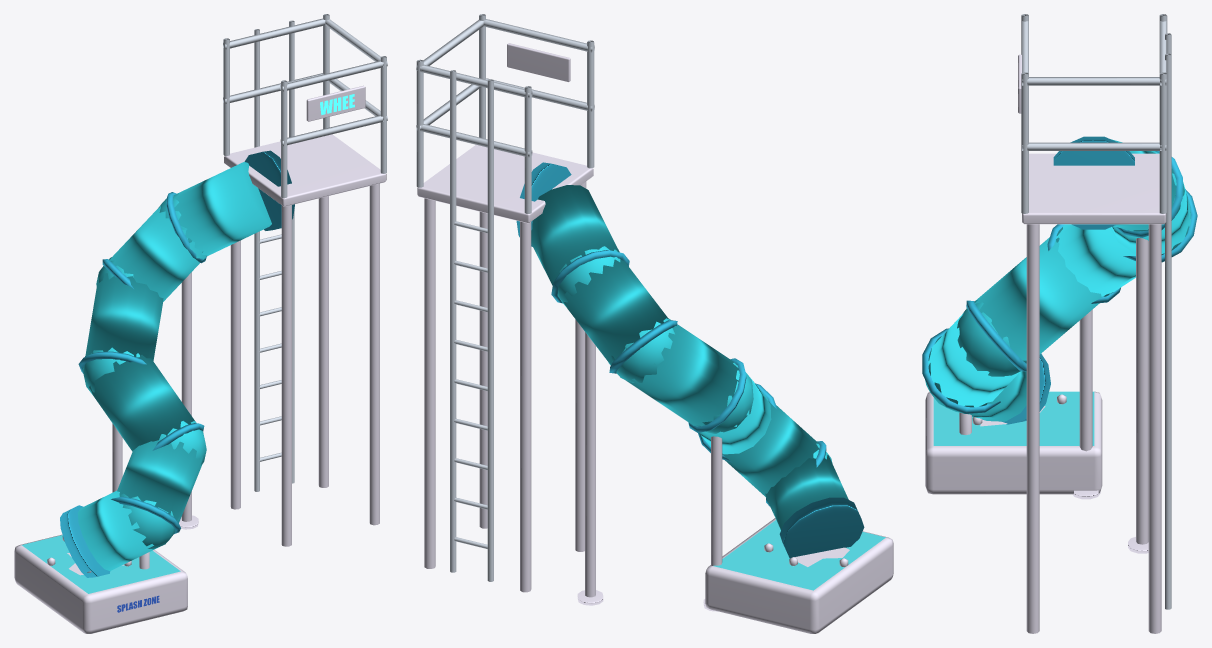
File: water_slide.glb
3 views of the same model, side by side, from view 1: azimuth 30°, elevation 25°; view 2: azimuth 150°, elevation 25°; view 3: azimuth 270°, elevation 25° (orthographic). The views are drawn at different scales.
Visible parts, largest first — view 1: Slide; view 2: Slide; view 3: Slide.
Boxes of the visible parts, bbox=[...] form: Slide: bbox=[14, 14, 387, 633]; Slide: bbox=[416, 14, 893, 633]; Slide: bbox=[922, 14, 1197, 633].
Bounding box in the file's own units: 2.95 × 3.85 × 1.71.
